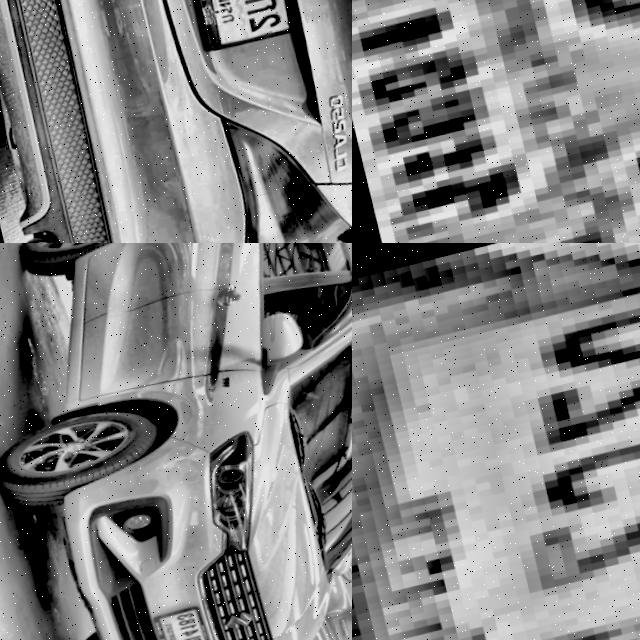license-plate: (352, 243, 640, 640), (352, 0, 640, 243), (167, 0, 303, 61), (142, 605, 208, 640)
